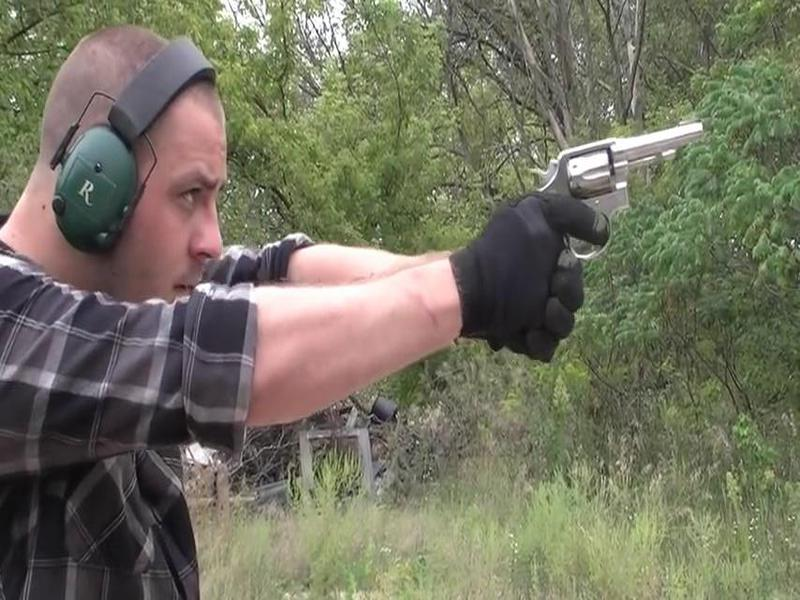Revolver: (524, 104, 707, 271)
